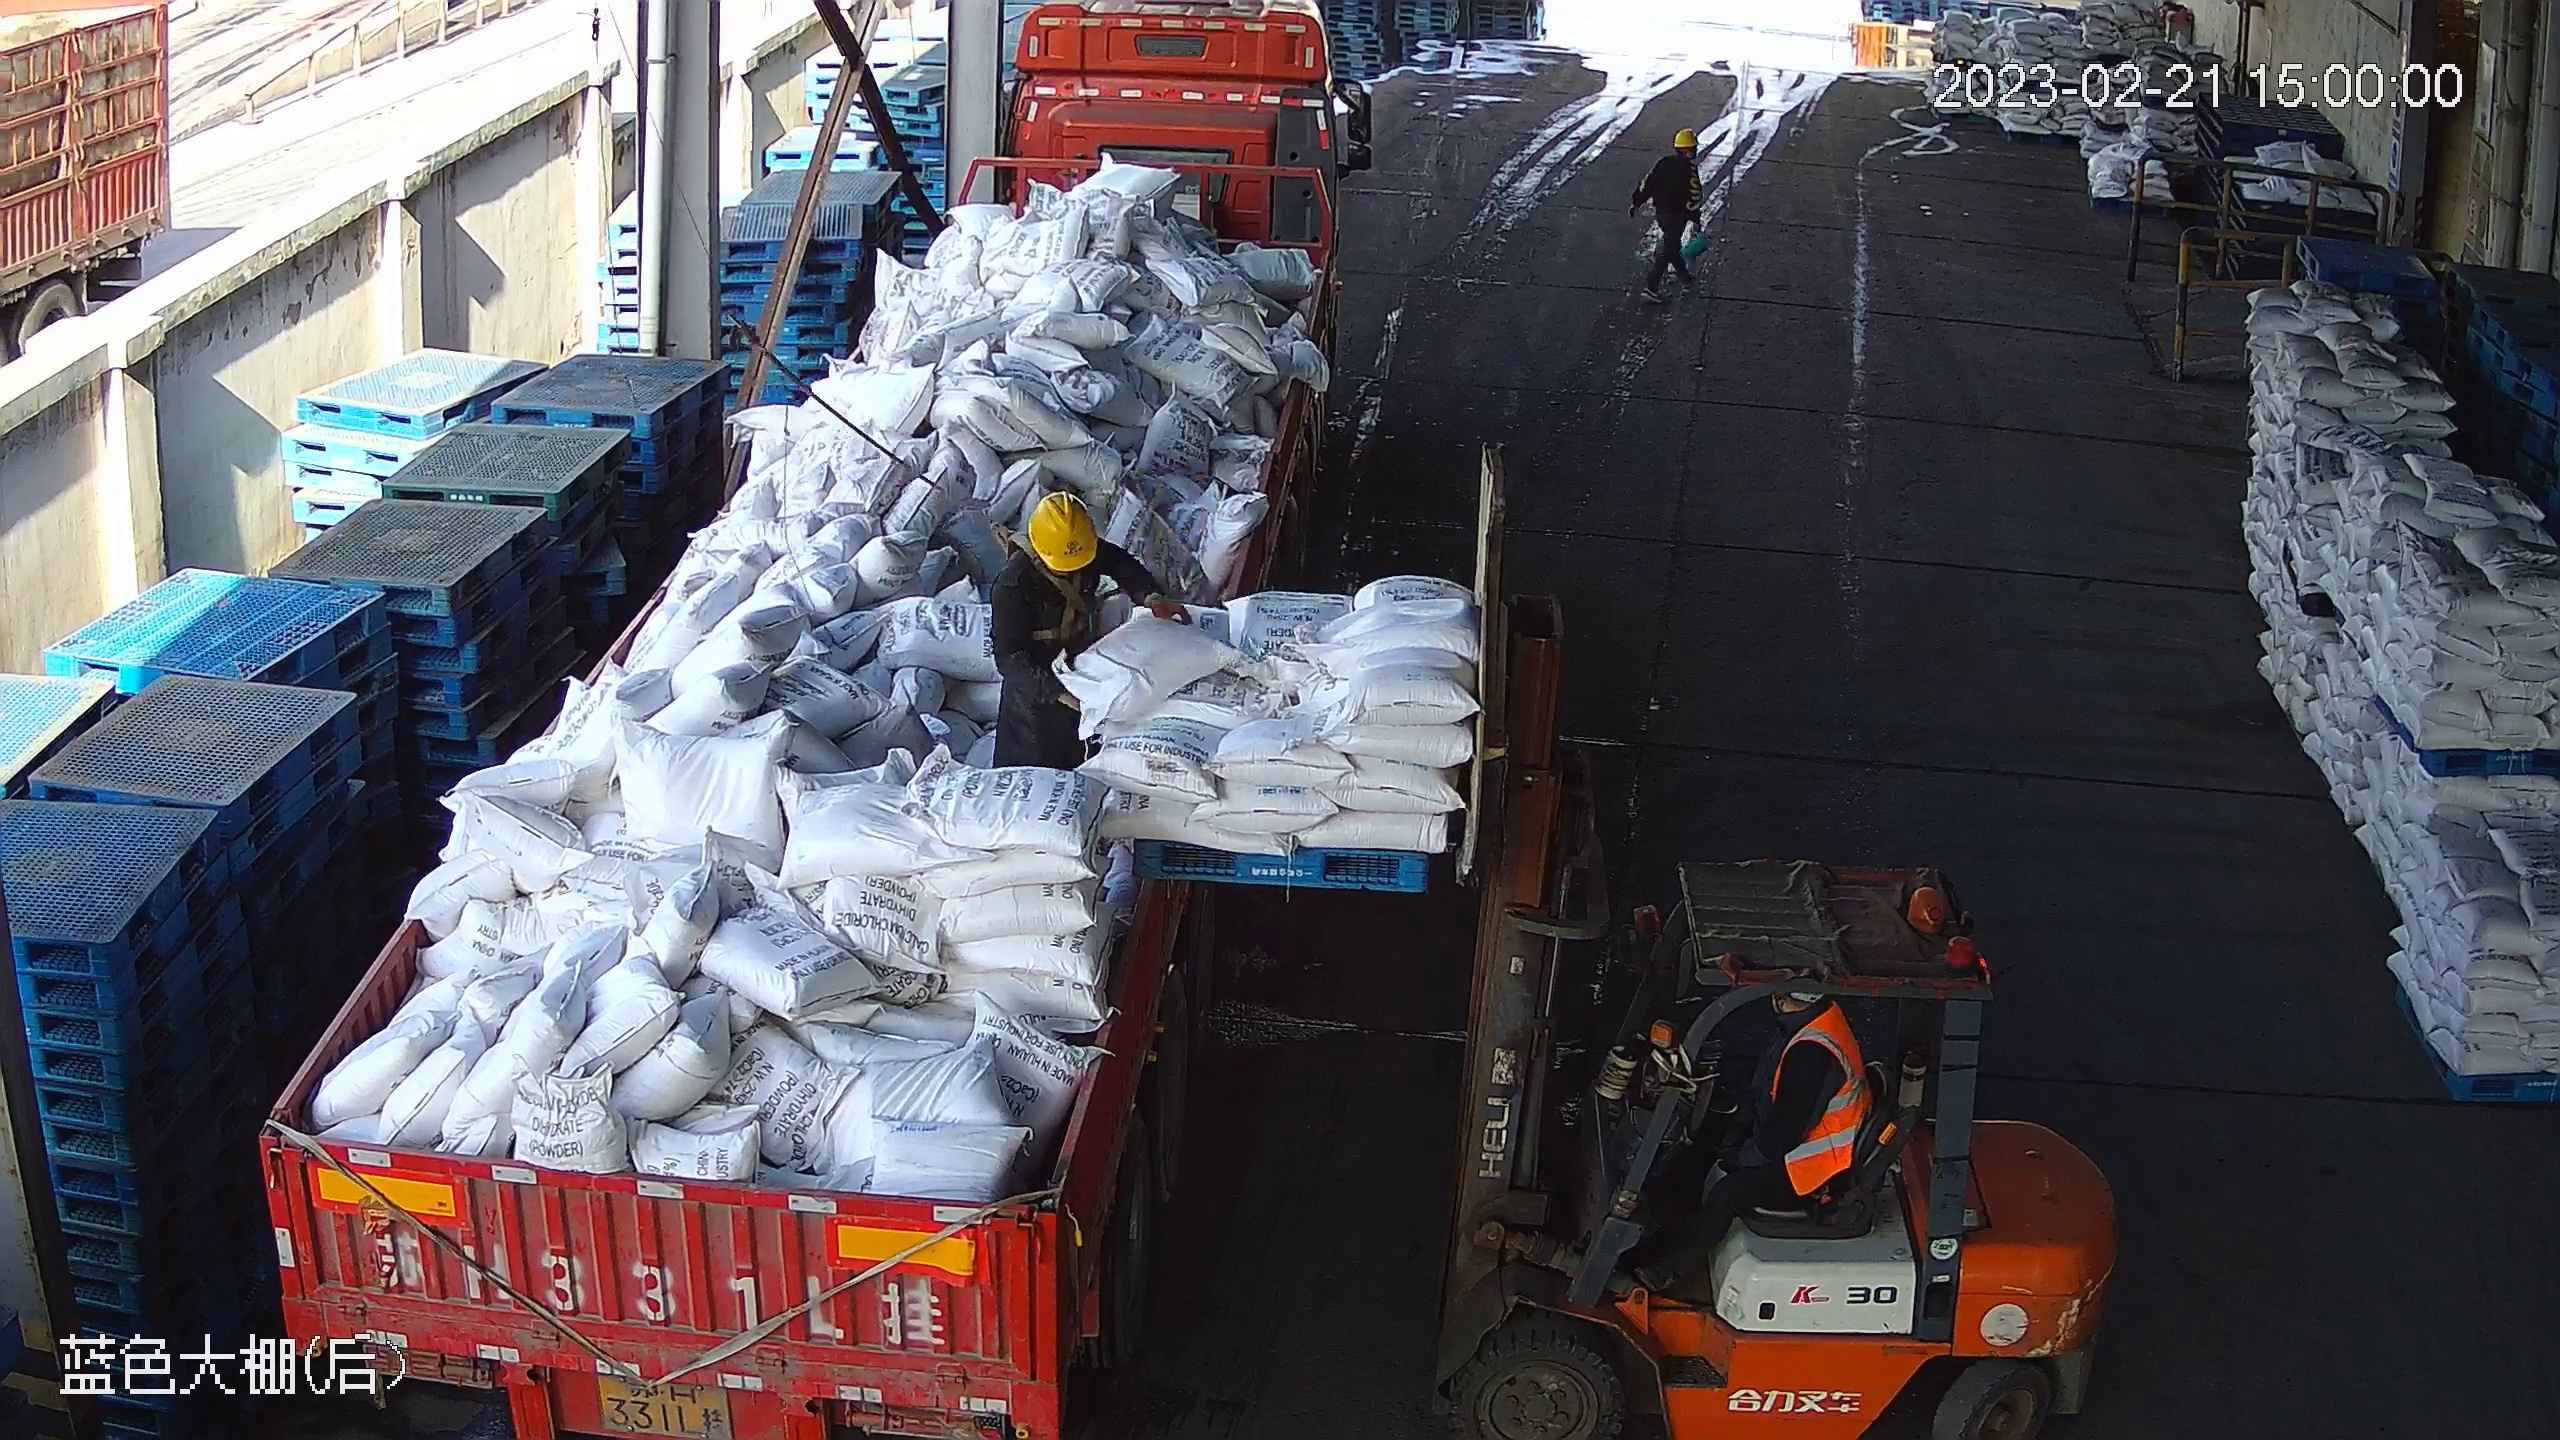belt: (992, 524, 1094, 641)
head: (991, 490, 1130, 605), (1654, 129, 1704, 178)
helmet: (1028, 491, 1098, 571), (1672, 127, 1695, 149)
people: (1627, 989, 1874, 1299), (990, 490, 1196, 770), (1627, 128, 1705, 303)
truck: (254, 1, 1374, 1440)
